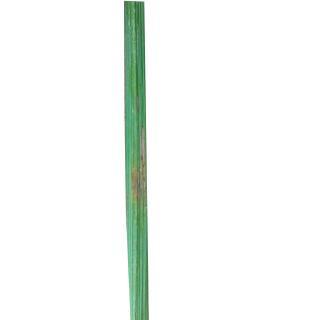Blast: (132, 121, 145, 206), (136, 94, 139, 112)
